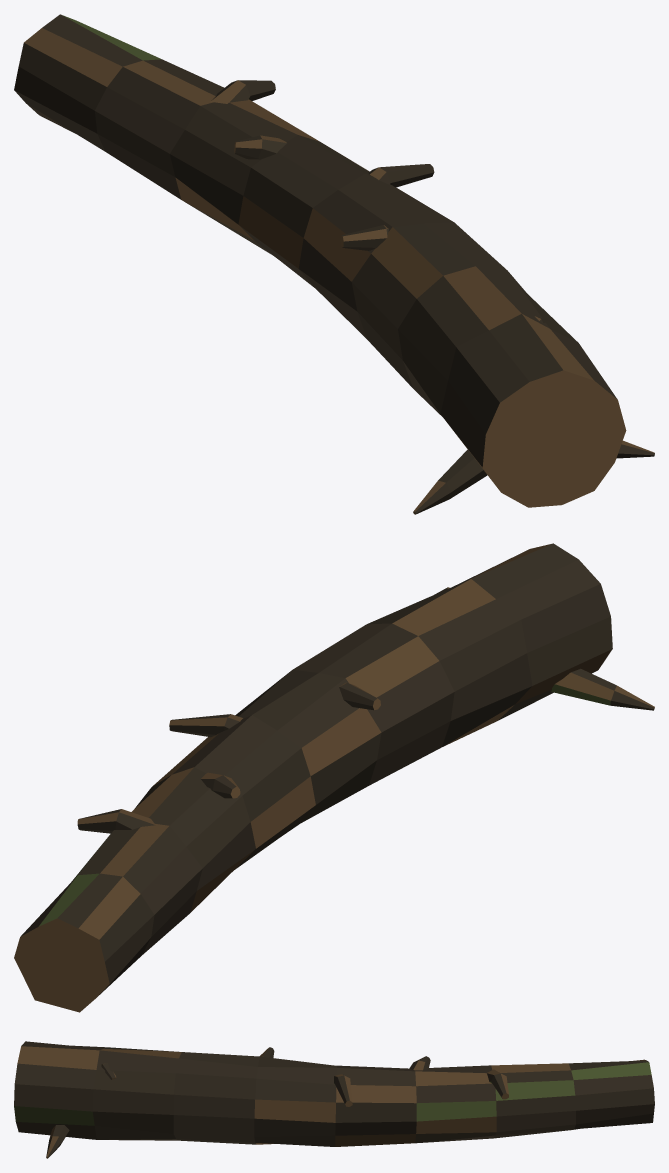
Rendered from wood_005b_bent_fallen_tree.glb.
3 renders of one model, top to bottom at view 1: azimuth 30°, elevation 25°; view 2: azimuth 150°, elevation 25°; view 3: azimuth 270°, elevation 25°, orthographic. The views are drawn at different scales.
Visible parts, largest first — view 1: wood_005b_bent_fallen_tree__mesh; view 2: wood_005b_bent_fallen_tree__mesh; view 3: wood_005b_bent_fallen_tree__mesh.
Part boxes in pixels (x1,y1,x2,y2): wood_005b_bent_fallen_tree__mesh: (14, 14, 654, 514); wood_005b_bent_fallen_tree__mesh: (14, 543, 654, 1012); wood_005b_bent_fallen_tree__mesh: (14, 1041, 654, 1158).
Size of the model in its own units: 5.12 by 2.6 by 17.61.
